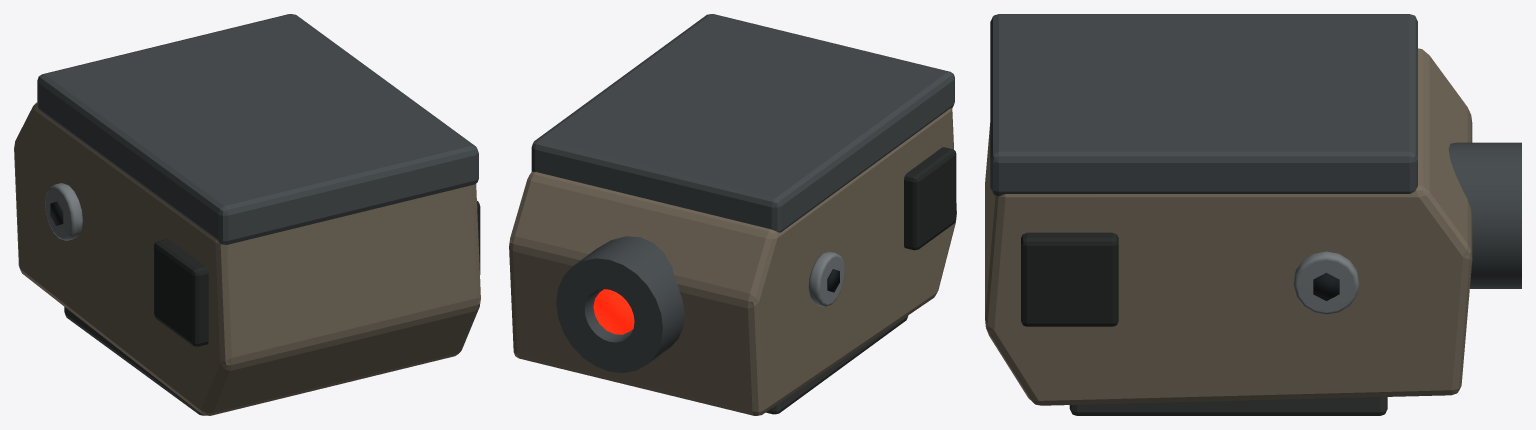
File: laser.glb
The picture shows the model from 3 angles, left to right: view 1: azimuth 30°, elevation 25°; view 2: azimuth 150°, elevation 25°; view 3: azimuth 270°, elevation 25°; orthographic projection. The views are drawn at different scales.
Parts seen in each view (by area): view 1: laser_Compact_case, laser_metal, laser_rubber, laser_steel, laser_Battery_floor; view 2: laser_metal, laser_Compact_case, laser_rubber, laser_Emitter_reticle, laser_steel, laser_Battery_floor; view 3: laser_Compact_case, laser_metal, laser_rubber, laser_Battery_floor, laser_steel, laser_recess.
Boxes of the visible parts, x1,y1,x2,y2 form: laser_Compact_case: (14,102,480,415); laser_metal: (37,14,478,244); laser_rubber: (154,201,480,346); laser_steel: (45,183,82,240); laser_Battery_floor: (64,307,205,415); laser_metal: (531,14,954,372); laser_Compact_case: (509,108,956,415); laser_rubber: (904,147,956,250); laser_Emitter_reticle: (593,289,634,334); laser_steel: (808,251,844,306); laser_Battery_floor: (766,315,908,414); laser_Compact_case: (985,48,1472,405); laser_metal: (990,14,1521,288); laser_rubber: (1021,232,1118,326); laser_Battery_floor: (1069,397,1387,415); laser_steel: (1293,251,1359,314); laser_recess: (1313,273,1339,300).
Size of the model in its own units: 0.032 by 0.0245 by 0.0439.
